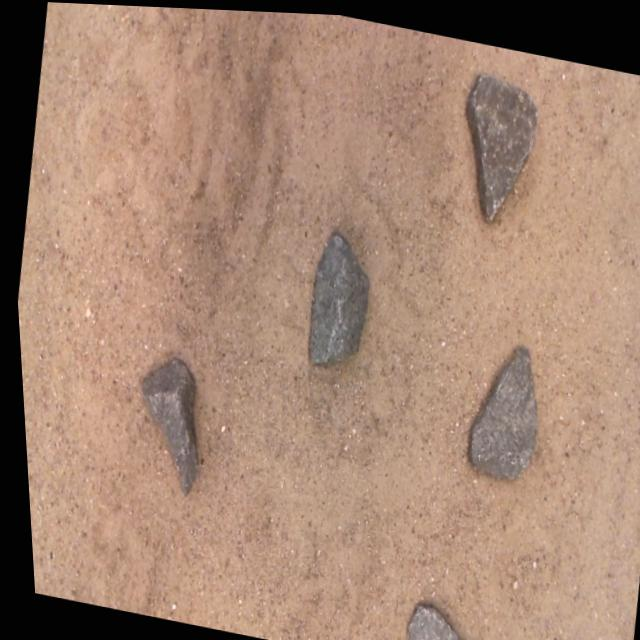rock: (464, 70, 534, 217), (464, 343, 531, 475), (304, 232, 364, 362), (135, 358, 191, 493), (399, 601, 453, 640)
